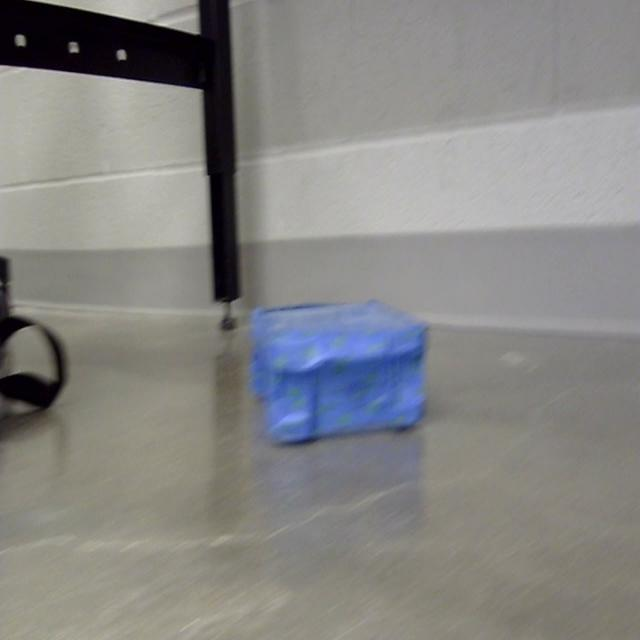bucket: (248, 300, 429, 449)
